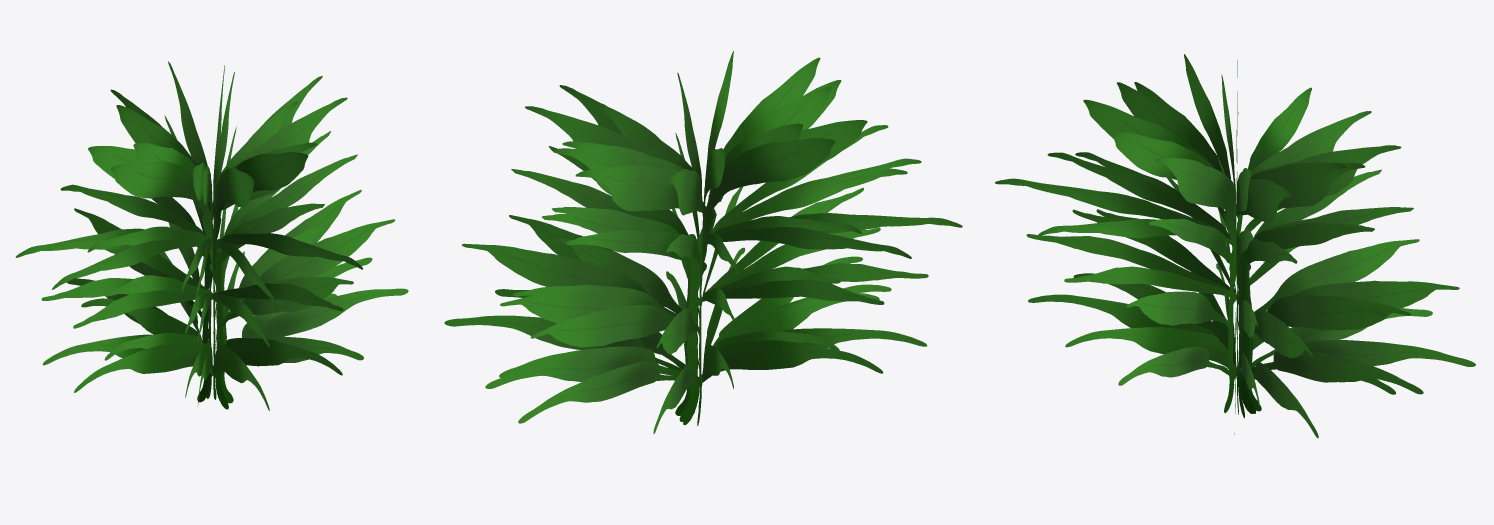
File: PlantaPequeña.fbx
3 renders of one model, left to right at view 1: azimuth 30°, elevation 25°; view 2: azimuth 150°, elevation 25°; view 3: azimuth 270°, elevation 25°, orthographic. The views are drawn at different scales.
Visible parts, largest first — view 1: PlantaPequeña; view 2: PlantaPequeña; view 3: PlantaPequeña.
Part boxes in pixels (x1=…): PlantaPequeña: x1=15, y1=61, x2=408, y2=410; PlantaPequeña: x1=444, y1=51, x2=962, y2=433; PlantaPequeña: x1=995, y1=54, x2=1475, y2=438.
Size of the model in its own units: 98.86 by 68.14 by 101.
